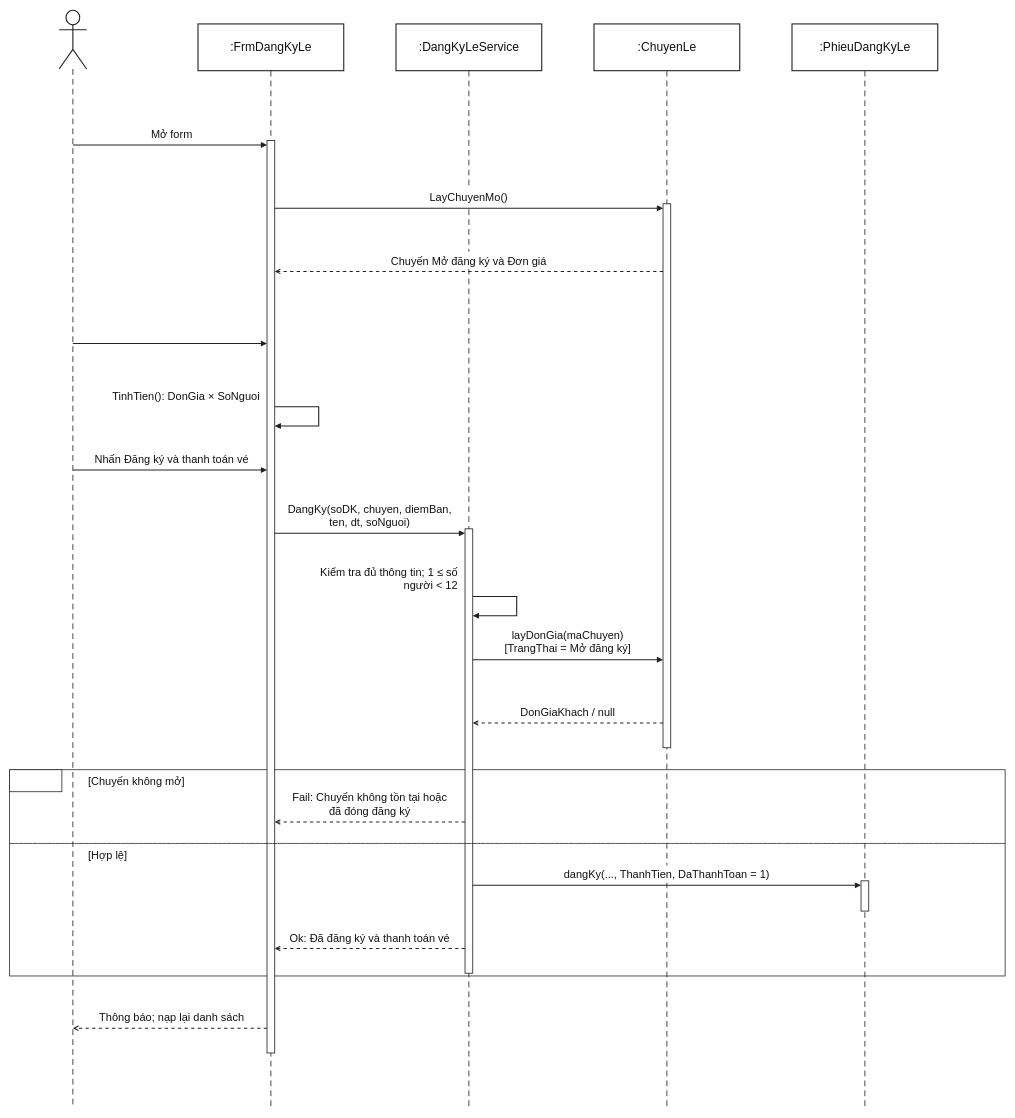
Image size: 1015x1118. Some labels were removed from this diagram. The shapes that lost their labels are listed below. From the top down, each one's centre as x and y in pixels, then its label:
the point at 72,39: NV bán vé
the point at 171,318: Chọn chuyến, điểm bán, nhập người đăng ký, điện thoại, số người
the point at 35,780: alt
